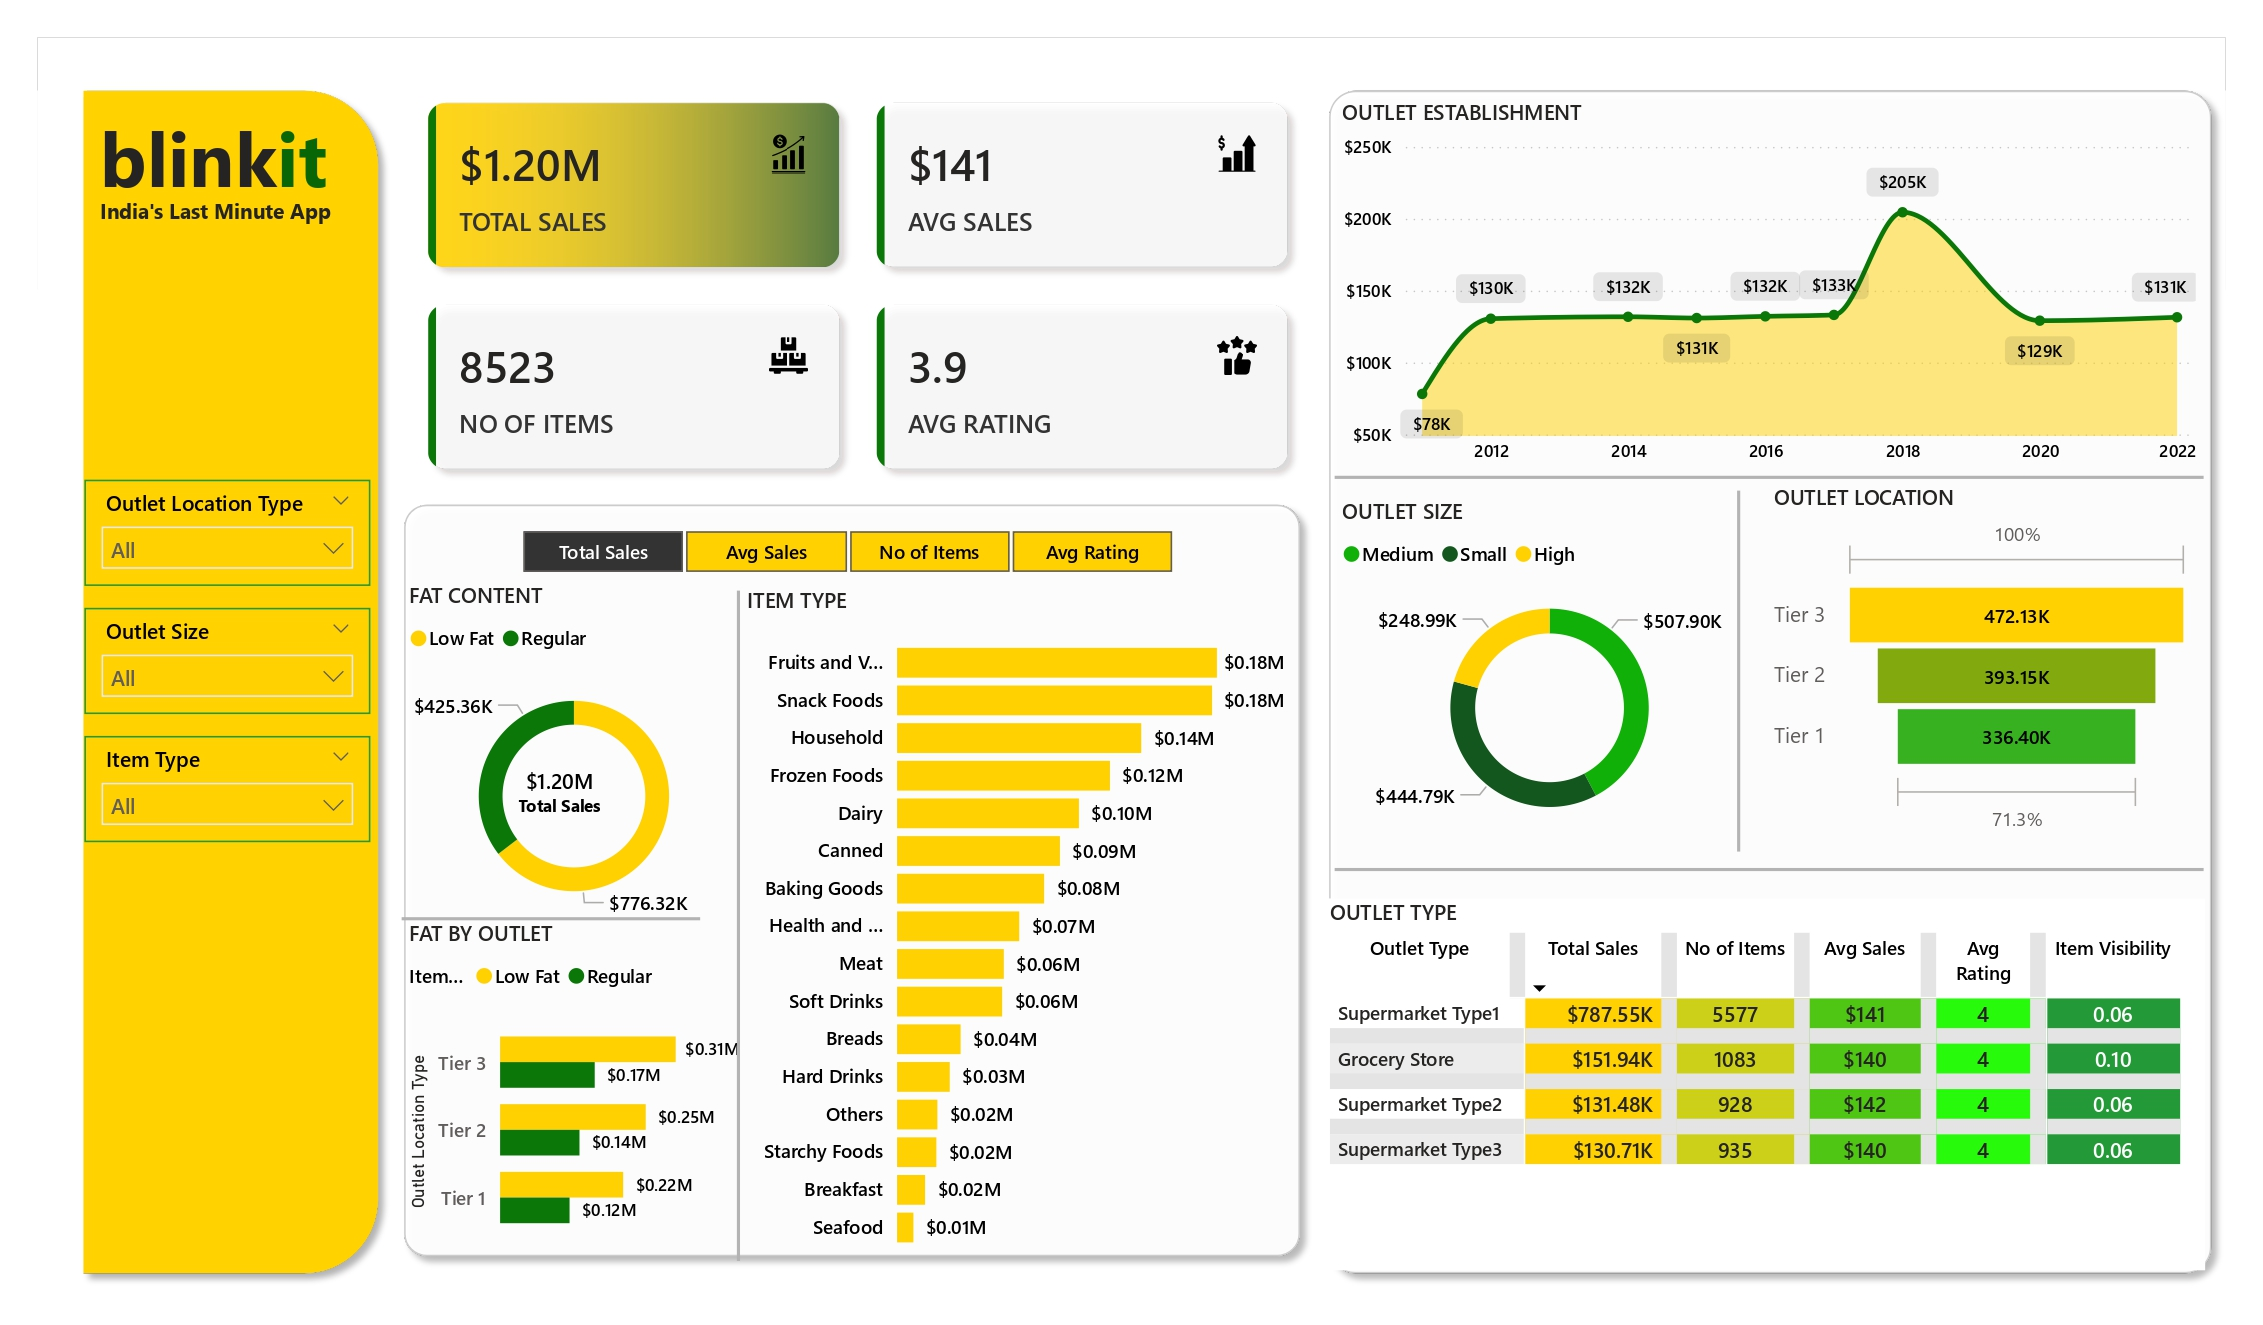

The dashboard page shown, as its layout file describes it:
{"tool":"powerbi","page":{"name":"Page 1","canvas":[1400,800],"ordinal":0},"visuals":[{"type":"shape","box":[20.5,25.2,206.3,774.8],"z":0},{"type":"textbox","box":[34.9,38.6,167.2,80.8],"z":1000},{"type":"textbox","box":[34.9,97.4,191.1,42.3],"z":2000},{"type":"cardVisual","fields":{"Data":["BlinkIT Grocery Data.Total Sales","BlinkIT Grocery Data.Avg Sales","BlinkIT Grocery Data.No of Items","BlinkIT Grocery Data.Avg Rating"]},"box":[233.1,25.2,584.3,269.3],"z":3000},{"type":"shape","box":[225.2,289.8,592.1,499.2],"z":4000},{"type":"donutChart","title":"FAT CONTENT","fields":{"Y":["BlinkIT Grocery Data.Total Sales"],"Category":["BlinkIT Grocery Data.Item Fat Content"]},"box":[233.1,348,220.5,229.9],"z":5000},{"type":"slicer","fields":{"Values":["Metrics.Metrics"]},"box":[285,308.7,464.6,39.4],"z":6000},{"type":"cardVisual","fields":{"Data":["BlinkIT Grocery Data.Total Sales"]},"box":[288.2,450.4,92.9,63],"z":7000},{"type":"clusteredBarChart","title":"FAT BY OUTLET","fields":{"Y":["BlinkIT Grocery Data.Total Sales"],"Category":["BlinkIT Grocery Data.Outlet Location Type"],"Series":["BlinkIT Grocery Data.Item Fat Content"]},"box":[233.1,563.8,220.5,218.9],"z":8000},{"type":"shape","box":[233.1,548,190.6,31.5],"z":9000},{"type":"shape","box":[431.5,354.3,34.6,428.3],"z":10000},{"type":"barChart","title":"ITEM TYPE","fields":{"Y":["BlinkIT Grocery Data.Total Sales"],"Category":["BlinkIT Grocery Data.Item Type"]},"box":[448.8,351.2,354.3,434.6],"z":11000},{"type":"shape","box":[817.3,25.2,582.7,774.8],"z":12000},{"type":"lineChart","title":"OUTLET ESTABLISHMENT","fields":{"Y":["BlinkIT Grocery Data.Total Sales"],"Category":["BlinkIT Grocery Data.Outlet Establishment Year"]},"box":[829.9,39.4,555.9,244.1],"z":13000},{"type":"shape","box":[829.9,269.3,555.9,25.2],"z":14000},{"type":"donutChart","title":"OUTLET SIZE","fields":{"Y":["BlinkIT Grocery Data.Total Sales"],"Category":["BlinkIT Grocery Data.Outlet Size"]},"box":[829.9,294.5,275,225],"z":15000},{"type":"funnel","title":"OUTLET LOCATION","fields":{"Y":["Sum(BlinkIT Grocery Data.Sales)"],"Category":["BlinkIT Grocery Data.Outlet Location Type"]},"box":[1105.5,285,277.2,229.9],"z":16000},{"type":"shape","box":[829.9,519.7,555.9,25.2],"z":17000},{"type":"shape","box":[1070.9,289.8,34.6,231.5],"z":18000},{"type":"pivotTable","title":"OUTLET TYPE","fields":{"Rows":["BlinkIT Grocery Data.Outlet Type"],"Values":["BlinkIT Grocery Data.Total Sales","BlinkIT Grocery Data.No of Items","BlinkIT Grocery Data.Avg Sales","BlinkIT Grocery Data.Avg Rating","Avg(BlinkIT Grocery Data.Item Visibility)"]},"box":[822,551.2,565.4,237.8],"z":19000},{"type":"slicer","fields":{"Values":["BlinkIT Grocery Data.Outlet Location Type"]},"box":[29.9,283.5,182.7,67.7],"z":20000},{"type":"slicer","fields":{"Values":["BlinkIT Grocery Data.Outlet Size"]},"box":[29.9,365.4,182.7,67.7],"z":21000},{"type":"slicer","fields":{"Values":["BlinkIT Grocery Data.Item Type"]},"box":[29.9,447.2,182.7,67.7],"z":22000}]}

Visuals, with their boxes on the page's 1400x800 design canvas (x1, y1, x2, y2). These are canvas units, not pixel positions in the 2263x1325 screenshot, which may show the page scaled, cropped or inside an application window:
shape: (20,25,227,800)
textbox: (35,39,202,119)
textbox: (35,97,226,140)
cardVisual - BlinkIT Grocery Data.Total Sales x BlinkIT Grocery Data.Avg Sales: (233,25,817,294)
shape: (225,290,817,789)
"FAT CONTENT" donutChart: (233,348,454,578)
slicer - Metrics.Metrics: (285,309,750,348)
cardVisual - BlinkIT Grocery Data.Total Sales: (288,450,381,513)
"FAT BY OUTLET" clusteredBarChart: (233,564,454,783)
shape: (233,548,424,580)
shape: (432,354,466,783)
"ITEM TYPE" barChart: (449,351,803,786)
shape: (817,25,1400,800)
"OUTLET ESTABLISHMENT" lineChart: (830,39,1386,284)
shape: (830,269,1386,294)
"OUTLET SIZE" donutChart: (830,294,1105,520)
"OUTLET LOCATION" funnel: (1106,285,1383,515)
shape: (830,520,1386,545)
shape: (1071,290,1106,521)
"OUTLET TYPE" pivotTable: (822,551,1387,789)
slicer - BlinkIT Grocery Data.Outlet Location Type: (30,284,213,351)
slicer - BlinkIT Grocery Data.Outlet Size: (30,365,213,433)
slicer - BlinkIT Grocery Data.Item Type: (30,447,213,515)
